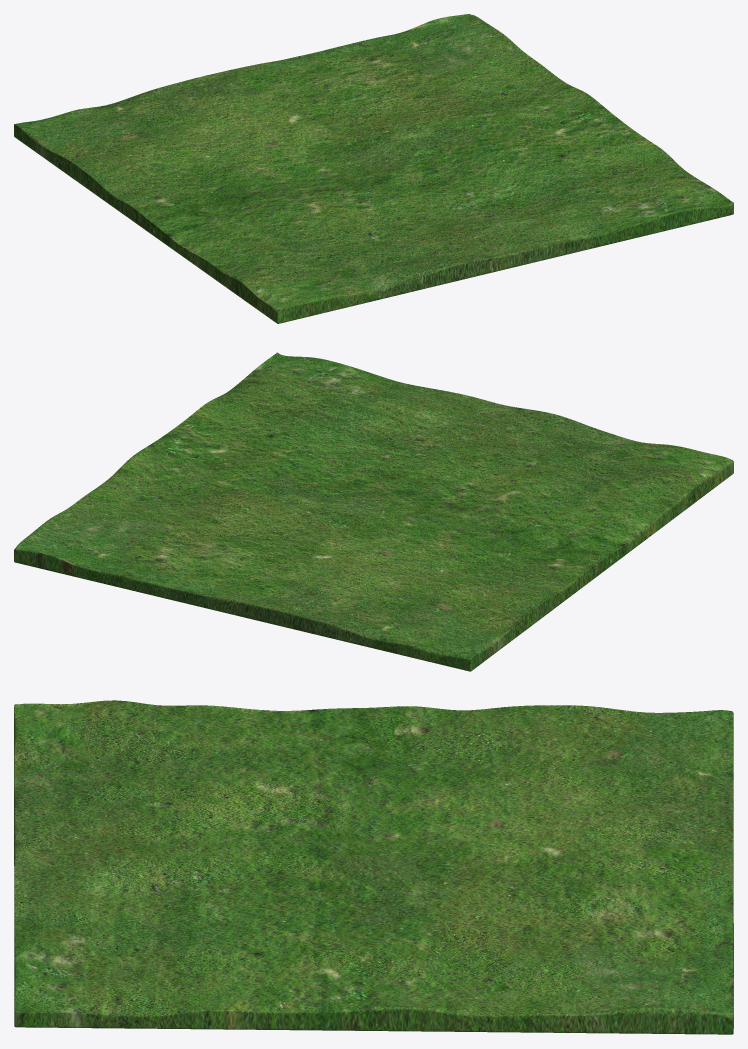
The model's file is grass.obj.
3 renders of one model, top to bottom at view 1: azimuth 30°, elevation 25°; view 2: azimuth 150°, elevation 25°; view 3: azimuth 270°, elevation 25°, orthographic. The views are drawn at different scales.
Visible parts, largest first — view 1: _Rectangular_Grass_Patch_v1; view 2: _Rectangular_Grass_Patch_v1; view 3: _Rectangular_Grass_Patch_v1.
Boxes of the visible parts, box(x1,y1,x2,y2) form: _Rectangular_Grass_Patch_v1: box(14, 14, 733, 323); _Rectangular_Grass_Patch_v1: box(14, 352, 733, 671); _Rectangular_Grass_Patch_v1: box(14, 700, 733, 1034).
Size of the model in its own units: 10.01 by 0.5261 by 10.01.
Materials: 1 (1 with a texture image).
